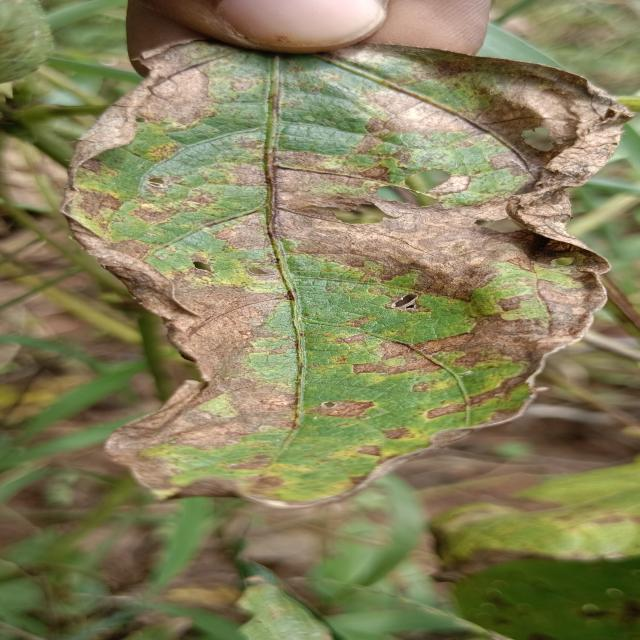Black gram_leaf spot: (46, 35, 640, 513)
